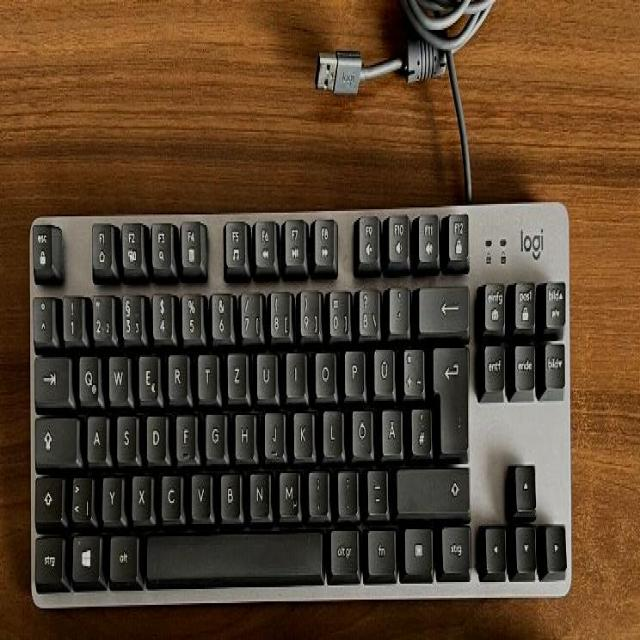0: (326, 283, 349, 336)
1: (60, 289, 83, 340)
2: (90, 289, 113, 340)
3: (119, 287, 143, 339)
4: (150, 287, 172, 336)
5: (178, 287, 202, 338)
6: (208, 285, 232, 337)
7: (238, 285, 262, 337)
8: (266, 283, 290, 338)
9: (296, 283, 320, 336)
a: (84, 408, 106, 459)
accent: (385, 280, 407, 329)
ae: (378, 401, 400, 450)
alt-left: (106, 528, 137, 579)
altgr-right: (327, 522, 358, 573)
b: (217, 464, 241, 517)
c: (158, 466, 181, 517)
caret: (30, 290, 52, 339)
comma: (305, 463, 328, 512)
d: (143, 408, 165, 459)
del: (416, 280, 467, 329)
e: (135, 348, 157, 397)
enter: (429, 339, 467, 450)
f: (173, 406, 194, 457)
g: (202, 407, 225, 456)
h: (231, 405, 254, 456)
hash: (408, 399, 430, 450)
i: (283, 345, 305, 392)
j: (261, 405, 284, 456)
k: (290, 405, 312, 456)
keyboard: (23, 195, 577, 610)
l: (320, 403, 342, 454)
less: (69, 468, 91, 520)
m: (276, 463, 300, 514)
minus: (364, 461, 385, 510)
n: (246, 464, 270, 515)
o: (312, 345, 335, 394)
oe: (349, 403, 372, 454)
p: (341, 343, 364, 392)
plus: (400, 341, 422, 392)
point: (335, 463, 357, 512)
q: (76, 348, 98, 399)
r: (164, 347, 187, 396)
s: (113, 408, 136, 459)
shift-left: (32, 472, 61, 521)
shift-lock: (32, 410, 77, 464)
shift-right: (394, 459, 468, 510)
space: (141, 522, 323, 579)
ss: (355, 281, 379, 334)
strg-left: (32, 529, 62, 582)
strg-right: (438, 519, 469, 571)
t: (195, 347, 217, 396)
tab: (32, 350, 69, 403)
u: (253, 345, 276, 396)
ue: (371, 341, 393, 392)
v: (188, 464, 211, 517)
w: (106, 346, 129, 399)
x: (129, 468, 151, 517)
y: (99, 468, 121, 519)
z: (224, 345, 246, 394)
